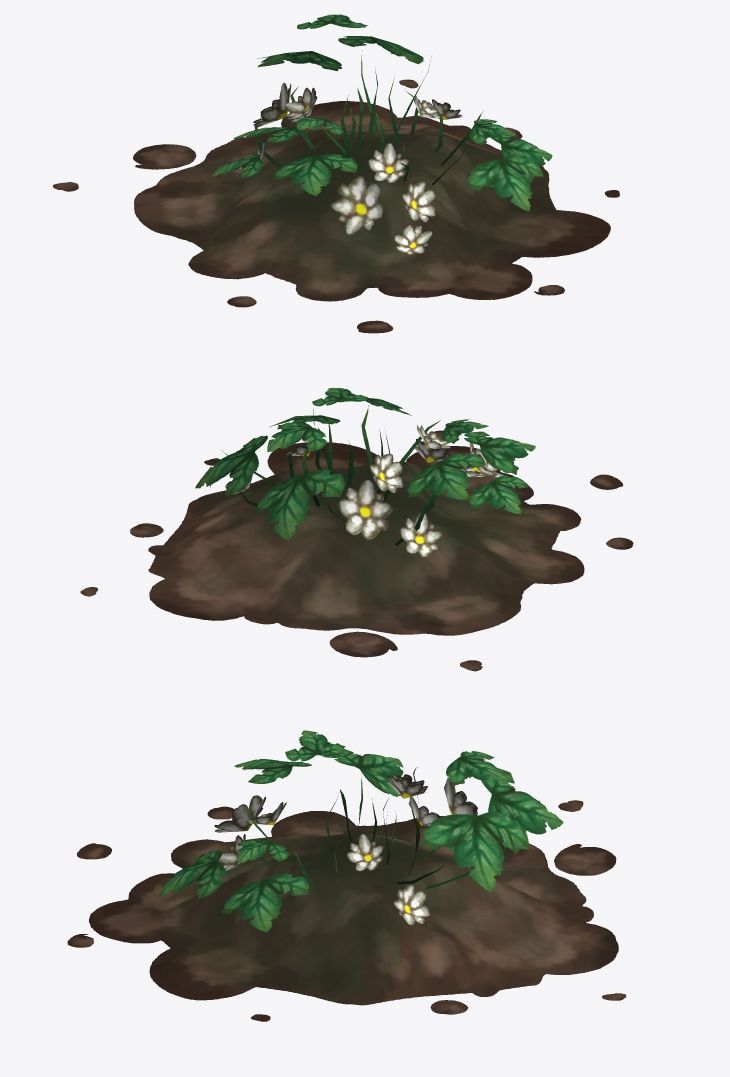
File: stawberry_stage1.FBX
The picture shows the model from 3 angles, top to bottom: view 1: azimuth 30°, elevation 25°; view 2: azimuth 150°, elevation 25°; view 3: azimuth 270°, elevation 25°; orthographic projection. The views are drawn at different scales.
Visible parts, largest first — view 1: stawberry_stage1; view 2: stawberry_stage1; view 3: stawberry_stage1.
Boxes of the visible parts, x1,y1,x2,y2 form: stawberry_stage1: (53, 14, 619, 333); stawberry_stage1: (80, 388, 633, 671); stawberry_stage1: (67, 730, 626, 1021).
Size of the model in its own units: 5 by 1.26 by 4.94.
1 material, 1 textured.
